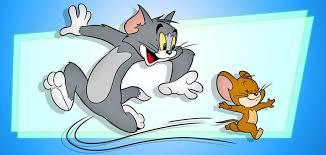tom: (41, 2, 204, 135)
